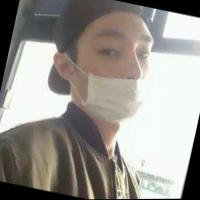WRONG: (58, 18, 166, 127)
